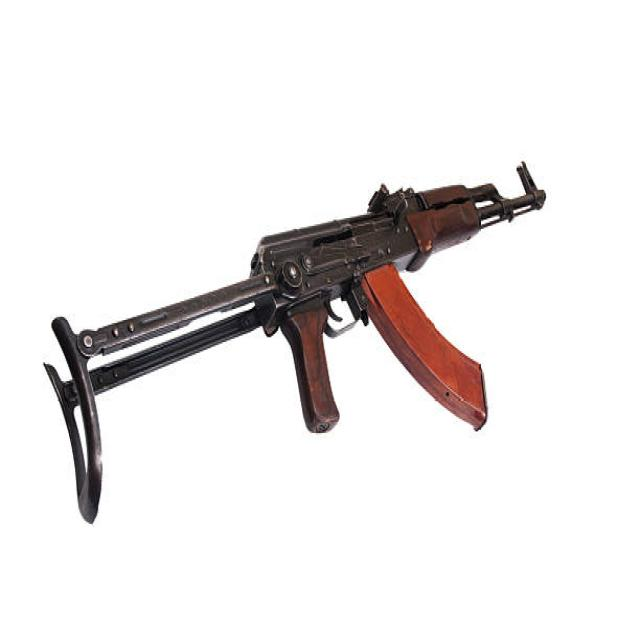rifle: (40, 158, 552, 537)
